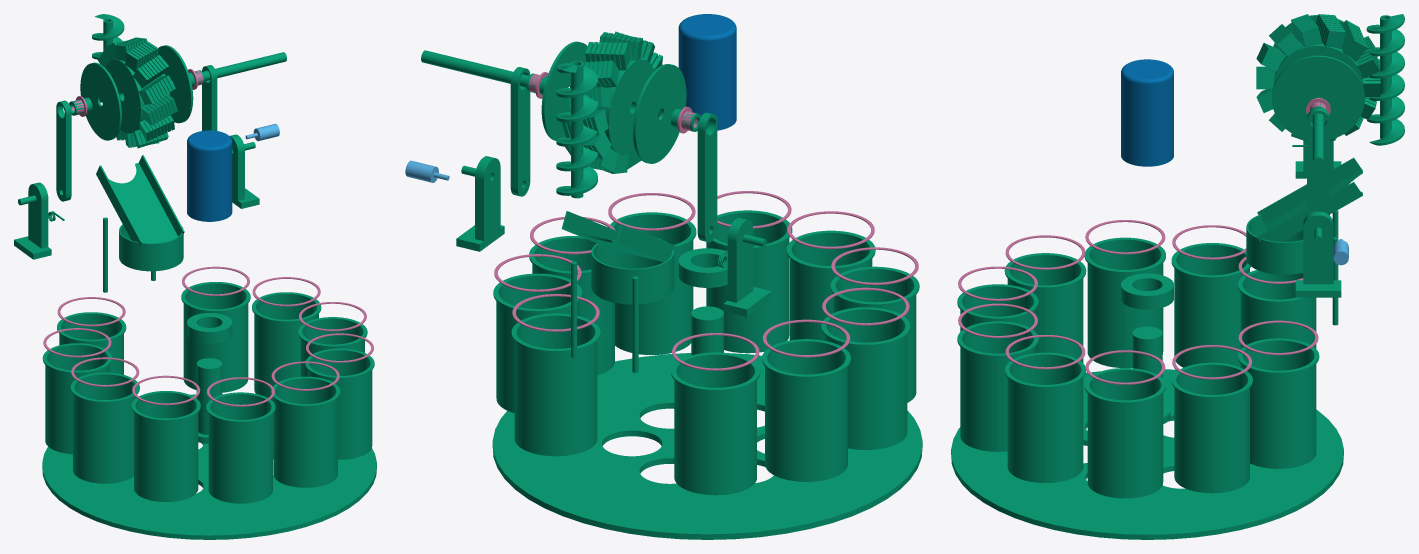
The model's file is brush_station_exploded.glb.
The picture shows the model from 3 angles, left to right: view 1: azimuth 30°, elevation 25°; view 2: azimuth 150°, elevation 25°; view 3: azimuth 270°, elevation 25°; orthographic projection. The views are drawn at different scales.
Visible parts, largest first — view 1: Carousel_Turntable, Sample_Cup_06, Sample_Cup_07, Sample_Cup_05, Sample_Cup_08, Sample_Cup_01, Sample_Cup_02, Sample_Cup_04, Carousel_Index_Motor, Sample_Transfer_Chute, Sample_Cup_09, Brush_Hub_End_Cap_L (+18 smaller); view 2: Carousel_Turntable, Sample_Cup_10, Sample_Cup_09, Sample_Cup_01, Sample_Cup_08, Sample_Cup_05, Sample_Cup_04, Carousel_Index_Motor, Sample_Cup_06, Sample_Cup_02, Sample_Cup_07, Sample_Port_Funnel (+26 smaller); view 3: Carousel_Turntable, Sample_Cup_03, Sample_Cup_04, Sample_Cup_02, Sample_Cup_01, Sample_Cup_09, Sample_Cup_08, Sample_Cup_05, Carousel_Index_Motor, Brush_Hub_End_Cap_R, Sample_Cup_07, Sample_Cup_10 (+24 smaller).
Part boxes in pixels (x1,y1,x2,y2): Carousel_Turntable: (42, 394, 376, 539); Sample_Cup_06: (206, 392, 275, 503); Sample_Cup_07: (131, 391, 200, 501); Sample_Cup_05: (271, 376, 340, 487); Sample_Cup_08: (70, 372, 139, 483); Sample_Cup_01: (181, 282, 250, 392); Sample_Cup_02: (252, 292, 321, 401); Sample_Cup_04: (305, 348, 374, 459); Carousel_Index_Motor: (187, 130, 232, 221); Sample_Transfer_Chute: (96, 155, 184, 245); Sample_Cup_09: (42, 343, 111, 454); Brush_Hub_End_Cap_L: (80, 62, 121, 140); Carousel_Turntable: (492, 353, 922, 539); Sample_Cup_10: (671, 352, 760, 495); Sample_Cup_09: (762, 339, 850, 481); Sample_Cup_01: (511, 313, 600, 456); Sample_Cup_08: (821, 307, 910, 449); Sample_Cup_05: (706, 210, 792, 353); Sample_Cup_04: (610, 212, 696, 354); Carousel_Index_Motor: (678, 14, 736, 130); Sample_Cup_06: (786, 230, 875, 340); Sample_Cup_02: (493, 273, 582, 413); Sample_Cup_07: (830, 266, 919, 402); Sample_Port_Funnel: (591, 237, 674, 304); Carousel_Turntable: (951, 369, 1343, 539); Sample_Cup_03: (1084, 368, 1165, 498); Sample_Cup_04: (1004, 352, 1085, 482); Sample_Cup_02: (1171, 362, 1252, 493); Sample_Cup_01: (1238, 338, 1319, 468); Sample_Cup_09: (1171, 243, 1250, 367); Sample_Cup_08: (1084, 237, 1165, 367); Sample_Cup_05: (957, 321, 1038, 451); Carousel_Index_Motor: (1121, 59, 1173, 166); Brush_Hub_End_Cap_R: (1272, 55, 1364, 139); Sample_Cup_07: (1004, 253, 1086, 362); Sample_Cup_10: (1238, 270, 1316, 348).
Size of the model in its own units: 0.2098 by 0.255 by 0.2387.
